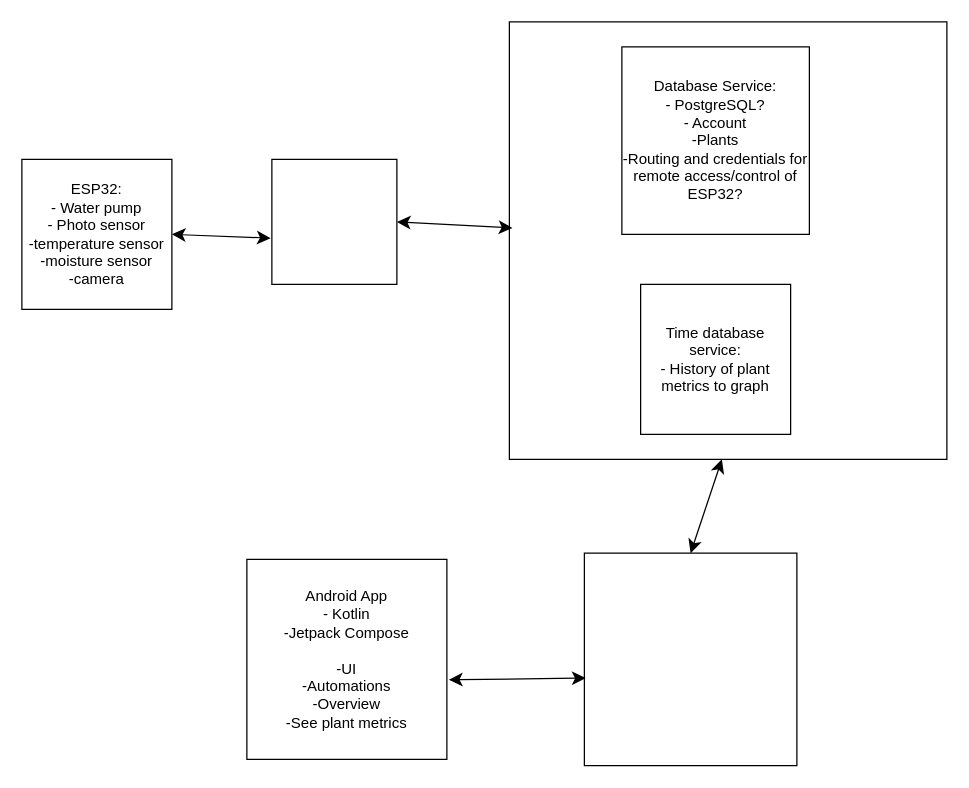
Some shapes in this 969 by 788 pixel diagram are drawn without their labels. Here are the shapes that lost their labels. From the top down, the centre of each, then its label:
At pixel 334 221: "MQTT Broker: Eclipse Mosquitto".
At pixel 690 659: "Backend service: -Data handling".
